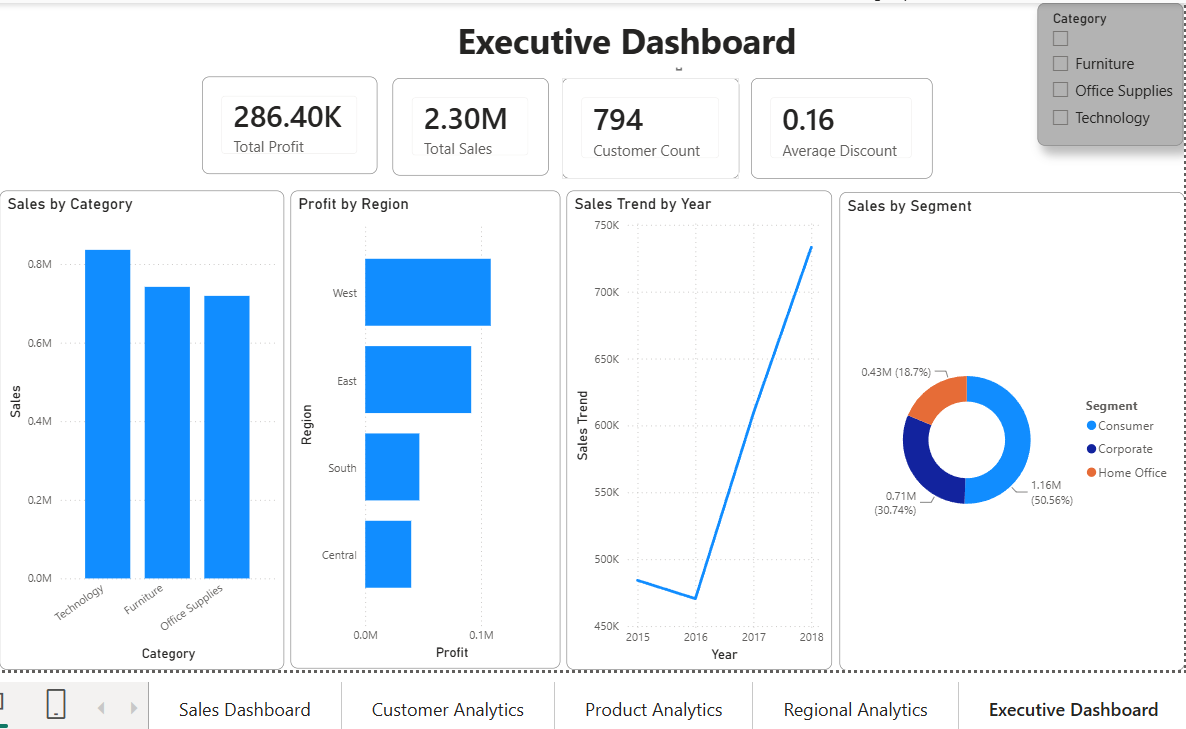

Layout of this report page (visuals, bound fields, positions):
{"tool":"powerbi","page":{"name":"Executive Dashboard","canvas":[1280,720],"ordinal":4},"visuals":[{"type":"cardVisual","fields":{"Data":["Sum(superstore.Profit)"]},"box":[220.8,78.8,189.4,105.2],"z":0},{"type":"cardVisual","fields":{"Data":["Sum(superstore.Sales)"]},"box":[425.3,81,168.4,105.2],"z":1000},{"type":"cardVisual","fields":{"Data":["Avg(superstore.Discount)"]},"box":[812.9,81,195.9,108.5],"z":2000},{"type":"clusteredColumnChart","fields":{"Category":["superstore.Category"],"Y":["Sum(superstore.Sales)"]},"box":[1.6,201.9,307.7,517.1],"z":3000},{"type":"clusteredBarChart","fields":{"Category":["superstore.Region"],"Y":["Sum(superstore.Profit)"]},"box":[315.7,202.9,291.5,516],"z":4000},{"type":"lineChart","fields":{"Category":["superstore.Order Date.Variation.Date Hierarchy.Year","superstore.Order Date.Variation.Date Hierarchy.Quarter","superstore.Order Date.Variation.Date Hierarchy.Month","superstore.Order Date.Variation.Date Hierarchy.Day"],"Y":["Sum(superstore.Sales)"]},"box":[613.7,202.9,286.6,517.6],"z":5000},{"type":"donutChart","fields":{"Category":["superstore.Segment"],"Y":["Sum(superstore.Sales)"]},"box":[908.4,204,372.4,516.5],"z":6000},{"type":"cardVisual","fields":{"Data":["Count(superstore.Customer ID)"]},"box":[608.3,80.4,191.1,108.5],"z":7000},{"type":"textbox","box":[491.2,9.7,388.1,59.9],"z":8000},{"type":"slicer","fields":{"Values":["superstore.Category"]},"box":[1122.9,0,157.1,153.8],"z":9000}]}

Visuals, with their boxes on the page's 1280x720 design canvas (x1, y1, x2, y2). These are canvas units, not pixel positions in the 1186x729 screenshot, which may show the page scaled, cropped or inside an application window:
cardVisual - Sum(superstore.Profit): (x1=221, y1=79, x2=410, y2=184)
cardVisual - Sum(superstore.Sales): (x1=425, y1=81, x2=594, y2=186)
cardVisual - Avg(superstore.Discount): (x1=813, y1=81, x2=1009, y2=190)
clusteredColumnChart - superstore.Category x Sum(superstore.Sales): (x1=2, y1=202, x2=309, y2=719)
clusteredBarChart - superstore.Region x Sum(superstore.Profit): (x1=316, y1=203, x2=607, y2=719)
lineChart - superstore.Order Date.Variation.Date Hierarchy.Year x superstore.Order Date.Variation.Date Hierarchy.Quarter: (x1=614, y1=203, x2=900, y2=720)
donutChart - superstore.Segment x Sum(superstore.Sales): (x1=908, y1=204, x2=1281, y2=720)
cardVisual - Count(superstore.Customer ID): (x1=608, y1=80, x2=799, y2=189)
textbox: (x1=491, y1=10, x2=879, y2=70)
slicer - superstore.Category: (x1=1123, y1=0, x2=1280, y2=154)
